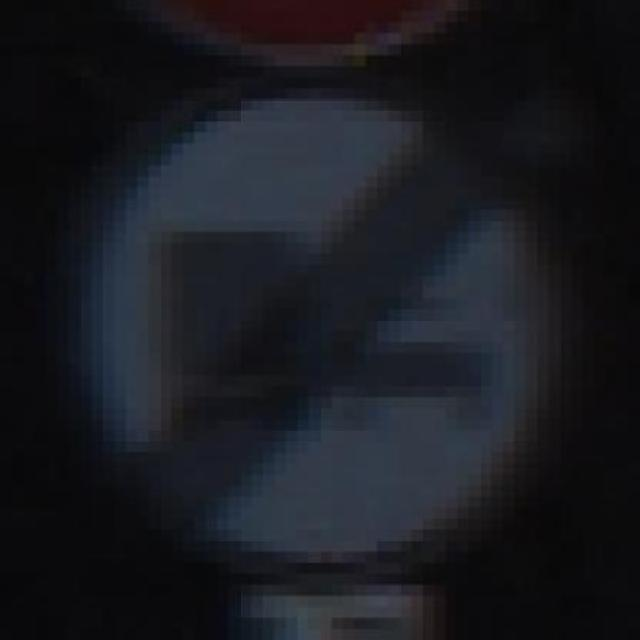Overtaking by trucks is prohibited: (12, 66, 594, 574)
